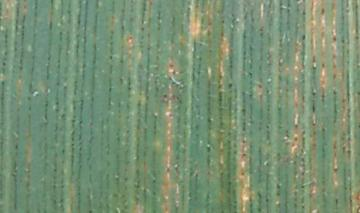tarspot: (217, 89, 224, 103), (300, 137, 307, 149), (118, 76, 126, 85), (319, 6, 326, 16), (239, 151, 247, 159), (292, 134, 300, 142), (240, 106, 247, 115), (331, 72, 338, 81), (320, 126, 327, 135), (13, 143, 20, 151), (25, 95, 33, 102), (161, 92, 169, 99), (330, 34, 337, 42), (205, 144, 212, 152), (12, 46, 19, 54), (26, 104, 33, 112), (107, 53, 114, 61), (58, 197, 66, 204), (118, 56, 125, 64), (119, 23, 126, 31), (167, 62, 175, 69), (167, 111, 174, 119), (256, 81, 263, 89), (332, 165, 339, 173), (332, 87, 338, 96), (341, 145, 347, 154), (136, 99, 142, 108), (226, 82, 233, 89), (300, 33, 307, 40), (239, 170, 246, 177), (12, 39, 19, 46), (59, 183, 66, 190), (54, 100, 61, 107), (150, 190, 157, 197), (139, 25, 146, 32), (264, 196, 271, 203), (152, 112, 159, 119), (299, 183, 306, 190), (310, 65, 317, 72), (276, 105, 283, 112), (301, 9, 307, 17), (247, 70, 253, 78), (346, 148, 352, 156), (264, 160, 270, 168), (226, 179, 232, 187), (310, 121, 318, 127), (354, 33, 359, 42), (3, 49, 9, 56), (1, 60, 7, 67), (340, 37, 346, 44), (206, 116, 213, 122), (240, 120, 247, 126), (240, 125, 247, 131), (240, 138, 247, 144), (60, 147, 66, 154), (51, 183, 58, 189), (10, 170, 16, 177), (51, 197, 57, 204), (122, 176, 128, 183), (151, 177, 157, 184), (275, 182, 281, 189), (275, 190, 281, 197), (227, 62, 233, 69), (247, 45, 254, 51), (258, 26, 265, 32), (331, 62, 337, 69), (344, 7, 350, 14), (334, 198, 340, 205), (264, 123, 270, 130), (300, 170, 306, 177), (299, 156, 306, 162), (193, 171, 199, 178), (216, 73, 223, 79), (70, 118, 77, 124), (69, 136, 76, 142), (54, 107, 61, 113), (1, 79, 6, 87), (86, 208, 94, 213), (220, 18, 226, 24), (20, 24, 26, 30), (52, 167, 58, 173), (2, 33, 8, 39), (107, 86, 113, 92), (126, 79, 132, 85), (126, 85, 132, 91), (320, 62, 326, 68), (194, 132, 200, 138), (256, 206, 262, 212), (284, 133, 290, 139), (265, 89, 271, 95), (78, 119, 84, 125), (18, 64, 23, 71), (55, 80, 60, 87), (331, 53, 336, 60), (355, 89, 360, 96), (46, 55, 51, 61), (19, 31, 25, 36), (20, 36, 26, 41), (311, 90, 316, 96), (259, 31, 264, 37), (354, 3, 359, 9), (300, 203, 305, 209), (249, 202, 254, 208), (248, 208, 254, 213), (301, 129, 306, 135), (293, 123, 299, 128), (70, 142, 76, 147), (284, 128, 289, 133), (216, 79, 221, 84), (218, 84, 223, 89)
